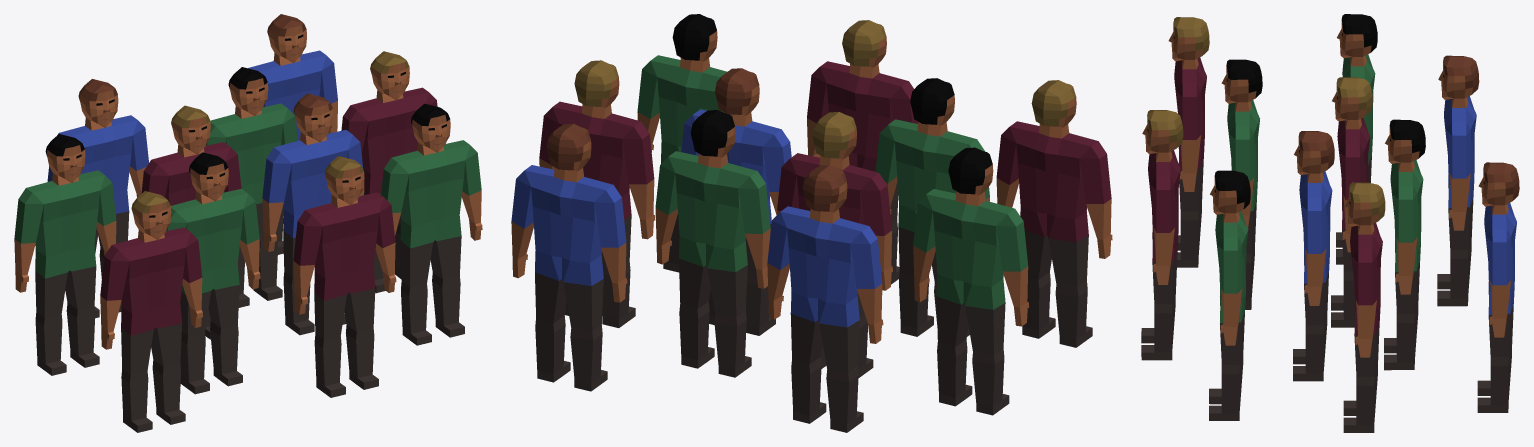
Rendered from people_new.glb.
The picture shows the model from 3 angles, left to right: view 1: azimuth 30°, elevation 25°; view 2: azimuth 150°, elevation 25°; view 3: azimuth 270°, elevation 25°; orthographic projection. The views are drawn at different scales.
Parts seen in each view (by area): view 1: Cube.021, Cube.015, Cube.006, Cube.019, Cube.013, Cube.002, Cube.001, Cube.010, Cube.005, Cube.008, Cube.003; view 2: Cube.005, Cube.008, Cube.006, Cube.001, Cube.015, Cube.010, Cube.013, Cube.021, Cube.019, Cube.003, Cube.002; view 3: Cube.005, Cube.010, Cube.008, Cube.021, Cube.001, Cube.002, Cube.019, Cube.015, Cube.003, Cube.013, Cube.006.
Part boxes in pixels (x1,y1,x2,y2): Cube.021: (293, 156, 396, 397); Cube.015: (100, 191, 202, 432); Cube.006: (14, 134, 116, 375); Cube.019: (381, 103, 482, 345); Cube.013: (166, 152, 260, 394); Cube.002: (262, 93, 364, 335); Cube.001: (206, 67, 297, 307); Cube.010: (341, 51, 437, 293); Cube.005: (47, 79, 148, 318); Cube.008: (248, 14, 337, 254); Cube.003: (141, 105, 241, 339); Cube.005: (767, 165, 883, 432); Cube.008: (511, 123, 627, 391); Cube.006: (913, 147, 1029, 415); Cube.001: (655, 110, 770, 377); Cube.015: (996, 80, 1112, 347); Cube.010: (539, 60, 655, 327); Cube.013: (875, 78, 989, 336); Cube.021: (807, 20, 917, 284); Cube.019: (637, 14, 726, 272); Cube.003: (777, 112, 892, 378); Cube.002: (681, 68, 791, 335); Cube.005: (1437, 55, 1479, 306); Cube.010: (1343, 182, 1385, 432); Cube.008: (1477, 162, 1519, 412); Cube.021: (1141, 110, 1183, 360); Cube.001: (1384, 119, 1425, 370); Cube.002: (1293, 131, 1334, 381); Cube.019: (1209, 170, 1250, 420); Cube.015: (1168, 17, 1209, 267); Cube.003: (1331, 77, 1372, 327); Cube.013: (1221, 59, 1262, 309); Cube.006: (1336, 14, 1377, 264).
Size of the model in its own units: 0.4821 by 0.2454 by 0.3543.
